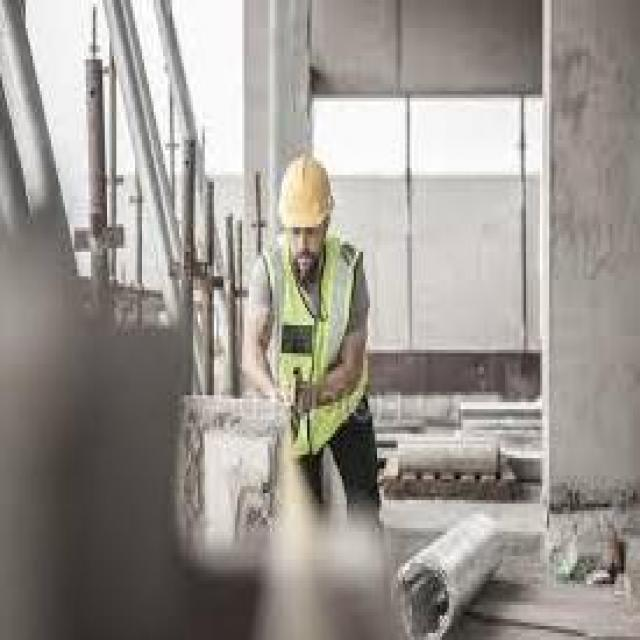Reflective-Jacket: (247, 238, 384, 465)
Safety-Helmet: (268, 144, 344, 242)
